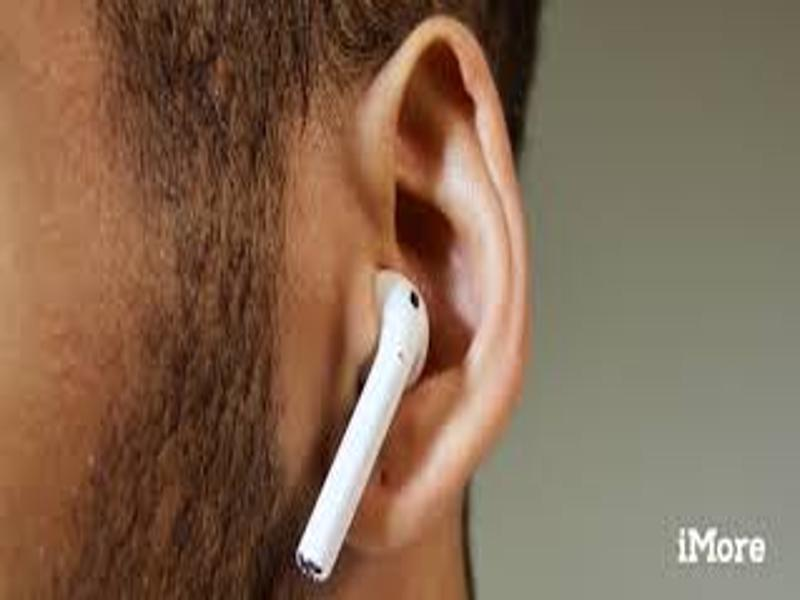headphone: (269, 265, 435, 579)
